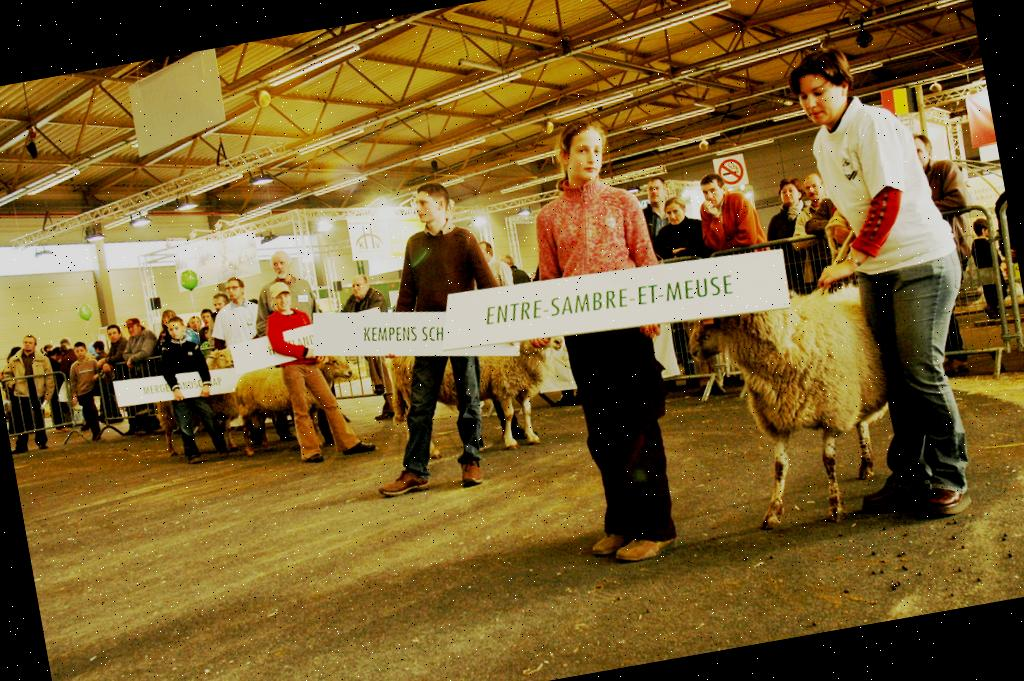Sheep: (686, 276, 916, 535), (386, 329, 580, 467), (226, 352, 364, 458), (153, 389, 244, 456)
